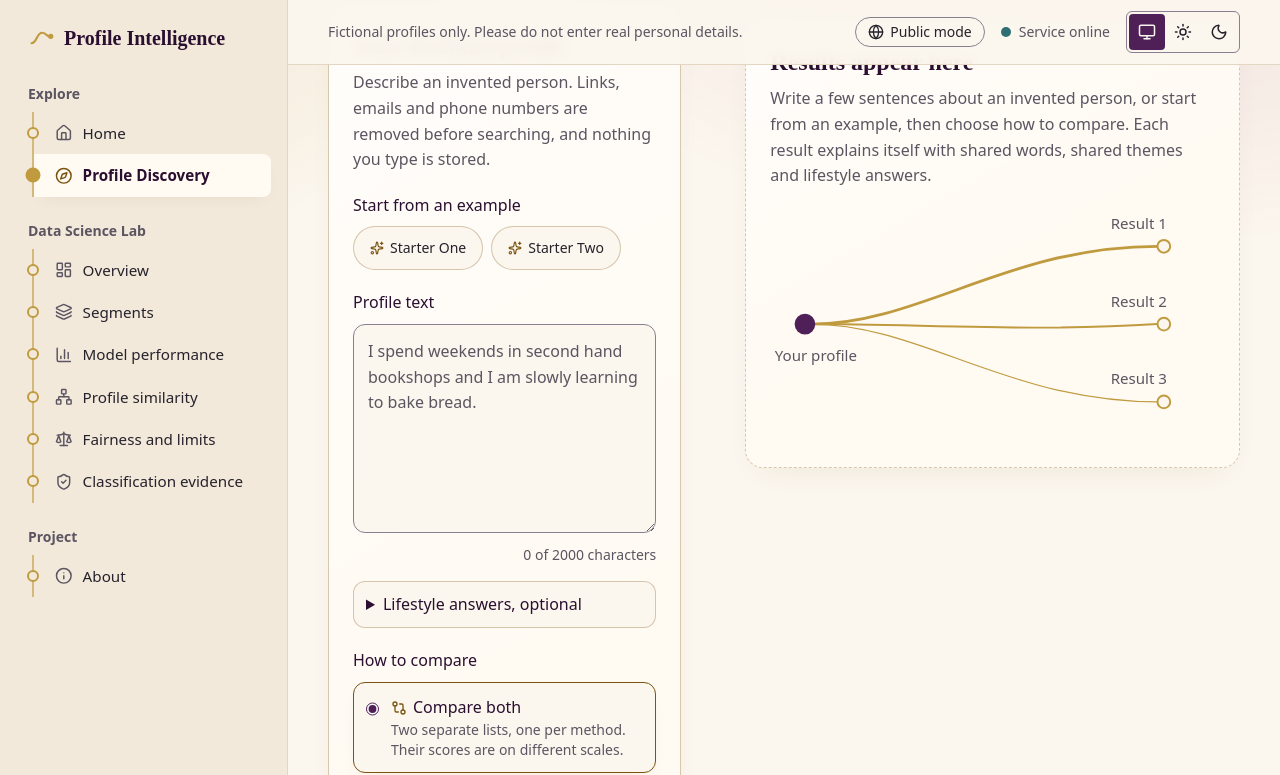
Discover page: searching › keeps the two methods in separate lists with their own score names
(page scrolled)
Step 1. Type "I spend weekends in old bookshops and drink far too much tea." into the text box labelled "Profile text" → (505, 428), box x1=353 y1=324 x2=656 y2=533
(page scrolled)
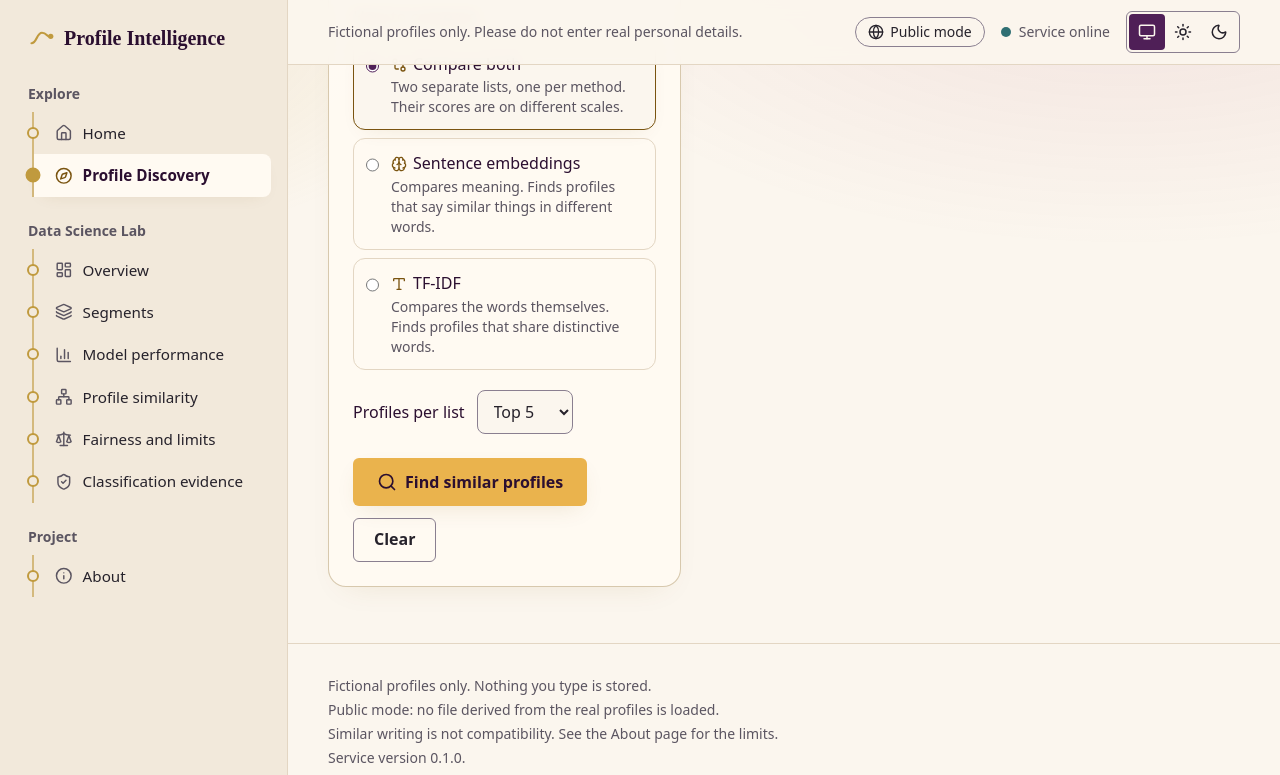
Step 2. Click the button "Find similar profiles" → (470, 482), box x1=353 y1=458 x2=587 y2=506
(page scrolled)
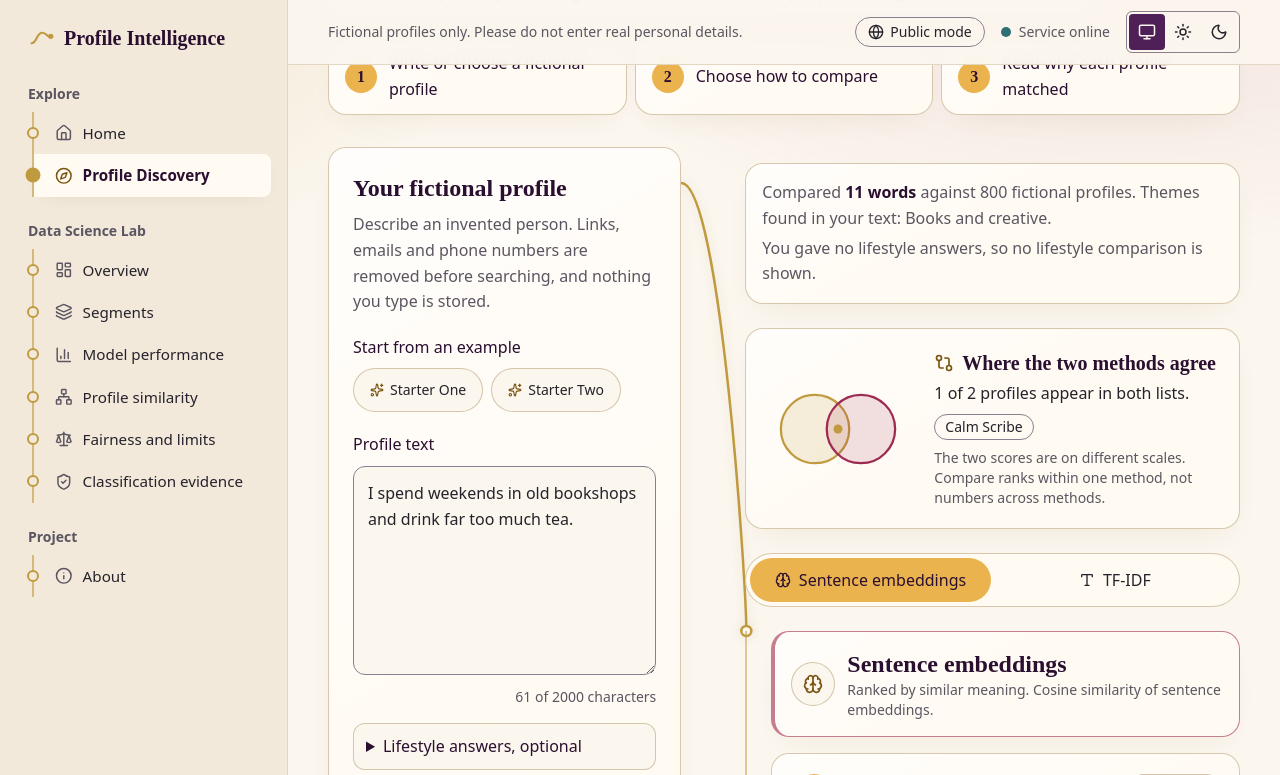
Check: the text "Cosine similarity of sentence embeddings." is shown, box x1=847 y1=680 x2=1223 y2=720
Check: the text with test id "overlap" reads "1 of 2 profiles appear in both lists.", box x1=934 y1=382 x2=1189 y2=404
Check: the element with test id "comparison" shows "different scales", box x1=934 y1=448 x2=1192 y2=507
